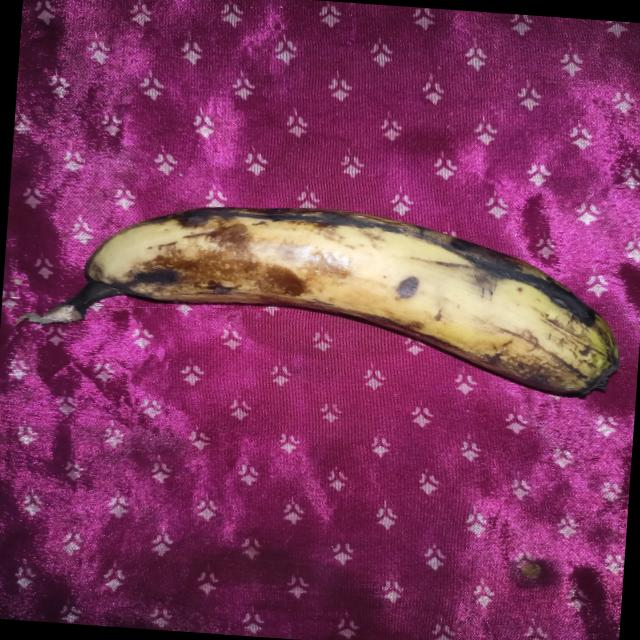banana_peel: (11, 195, 630, 412)
